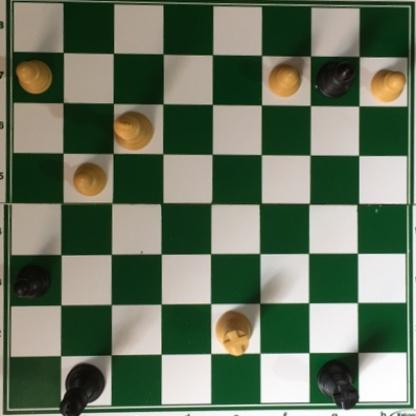black-bishop: (314, 60, 358, 104)
black-king: (58, 361, 106, 415)
black-pawn: (12, 264, 52, 301)
black-rook: (315, 362, 359, 413)
white-king: (111, 110, 156, 153)
white-pawn: (15, 57, 55, 96), (269, 63, 305, 102), (74, 161, 110, 198), (368, 71, 406, 106)
white-rook: (214, 308, 255, 359)
